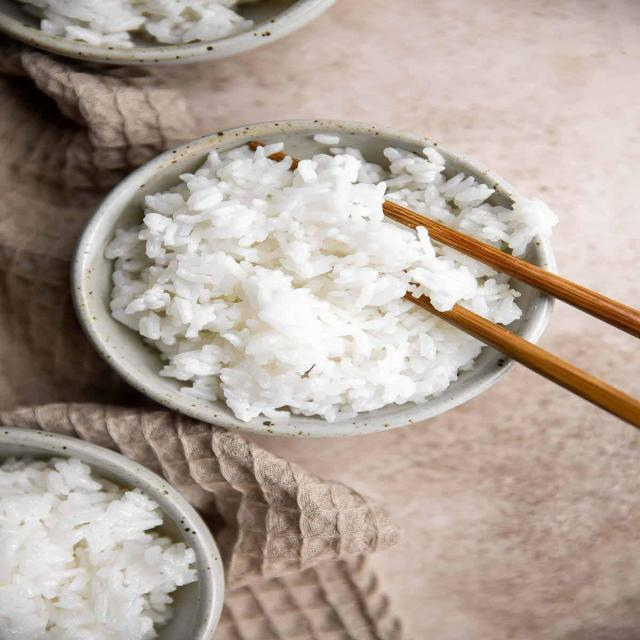rice: (109, 137, 536, 416), (0, 458, 197, 640), (20, 0, 252, 47)
